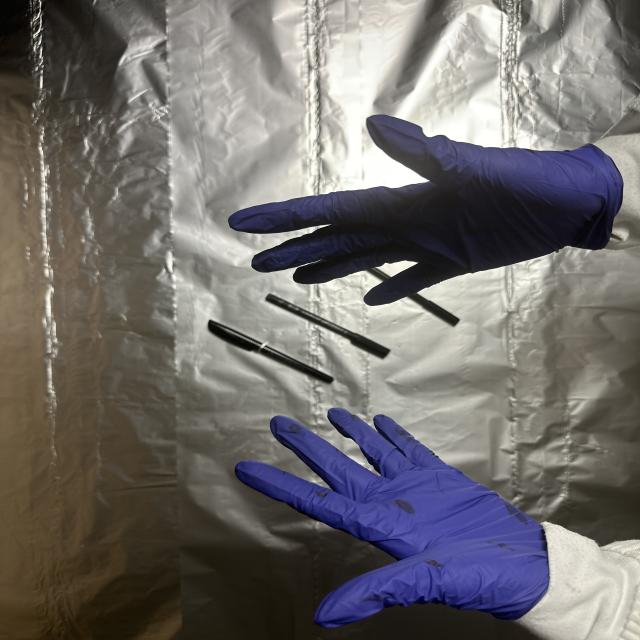gloves_contaminated: (229, 115, 623, 305), (236, 408, 549, 628)
